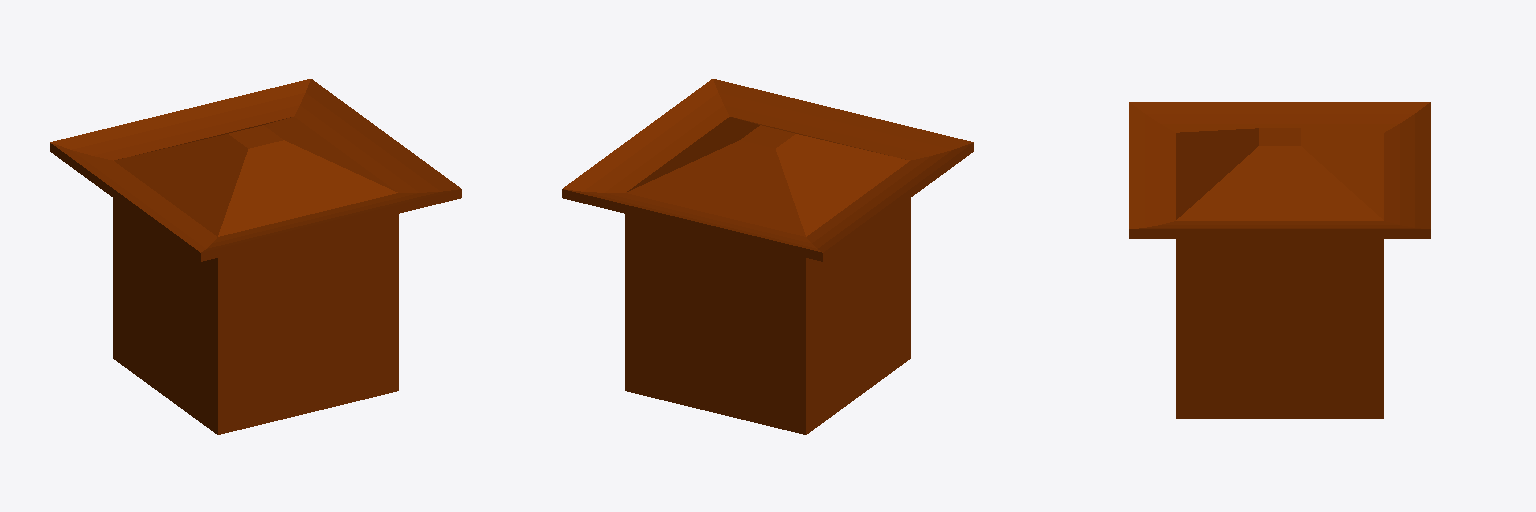
3 renders of one model, left to right at view 1: azimuth 30°, elevation 25°; view 2: azimuth 150°, elevation 25°; view 3: azimuth 270°, elevation 25°, orthographic.
Visible parts, largest first — view 1: Edificio_Base_03; view 2: Edificio_Base_03; view 3: Edificio_Base_03.
Part boxes in pixels (x1,y1,x2,y2): Edificio_Base_03: (50, 79, 461, 434); Edificio_Base_03: (562, 79, 973, 434); Edificio_Base_03: (1129, 102, 1430, 418).
Size of the model in its own units: 36.14 by 31.46 by 36.14.